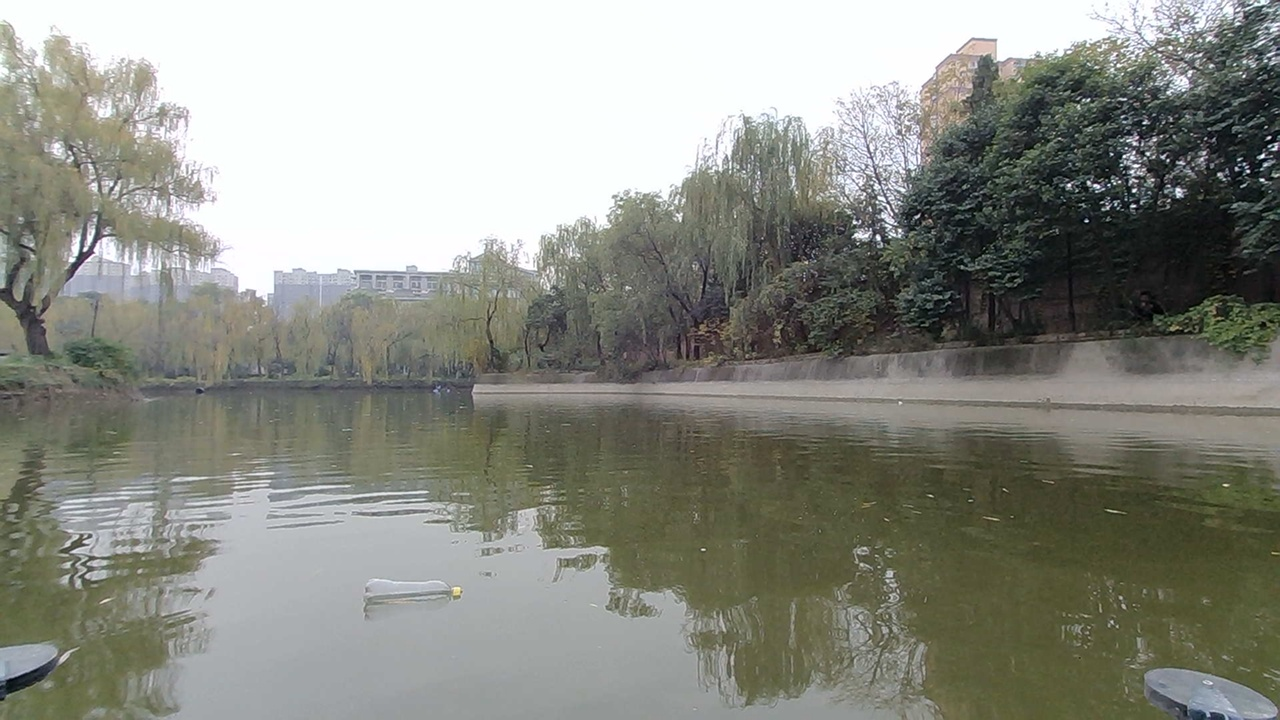bottle: (350, 570, 467, 628)
